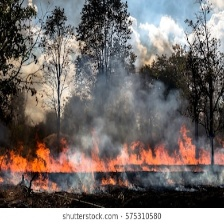fire: (1, 121, 224, 196)
smoke: (15, 53, 190, 146)
